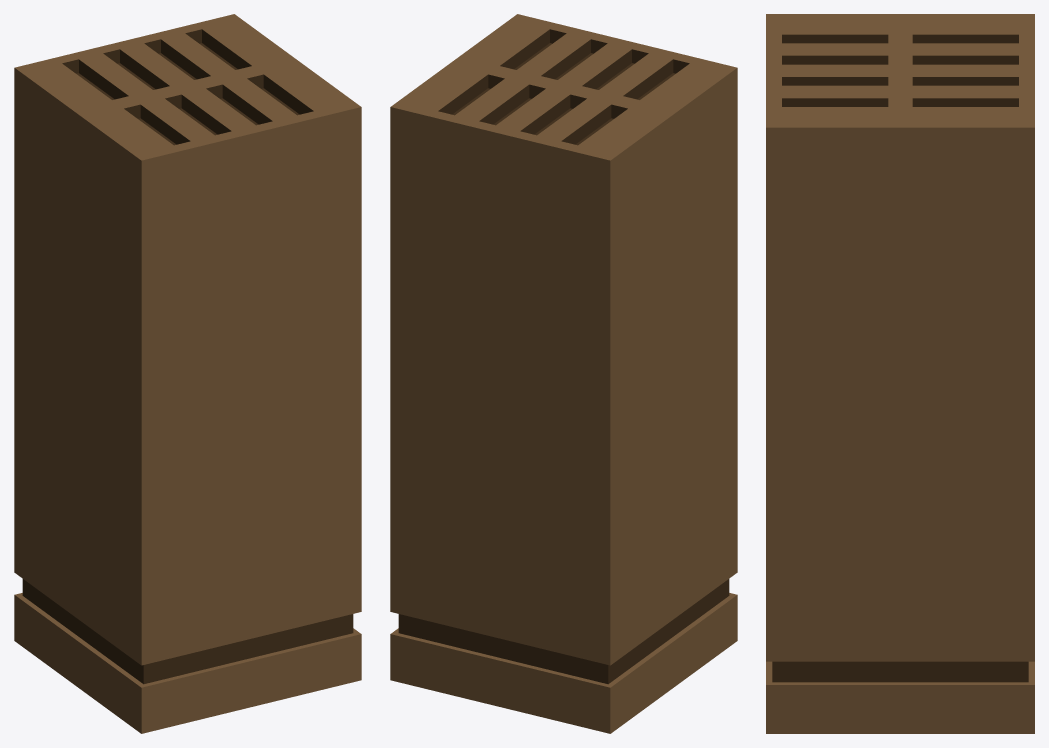
File: Stand_01.fbx
The picture shows the model from 3 angles, left to right: view 1: azimuth 30°, elevation 25°; view 2: azimuth 150°, elevation 25°; view 3: azimuth 270°, elevation 25°; orthographic projection. The views are drawn at different scales.
Parts seen in each view (by area): view 1: Stand_01; view 2: Stand_01; view 3: Stand_01.
Boxes of the visible parts, x1,y1,x2,y2 form: Stand_01: [14, 14, 361, 733]; Stand_01: [390, 14, 737, 733]; Stand_01: [766, 14, 1034, 733].
Size of the model in its own units: 10.04 by 25 by 10.04.
